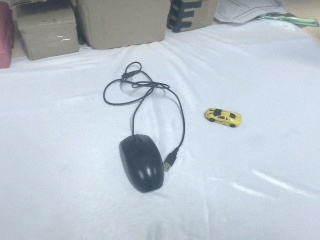box: (62, 1, 174, 50), (10, 1, 80, 61)
mouse: (119, 134, 165, 194)
toy_car: (201, 101, 244, 131)
